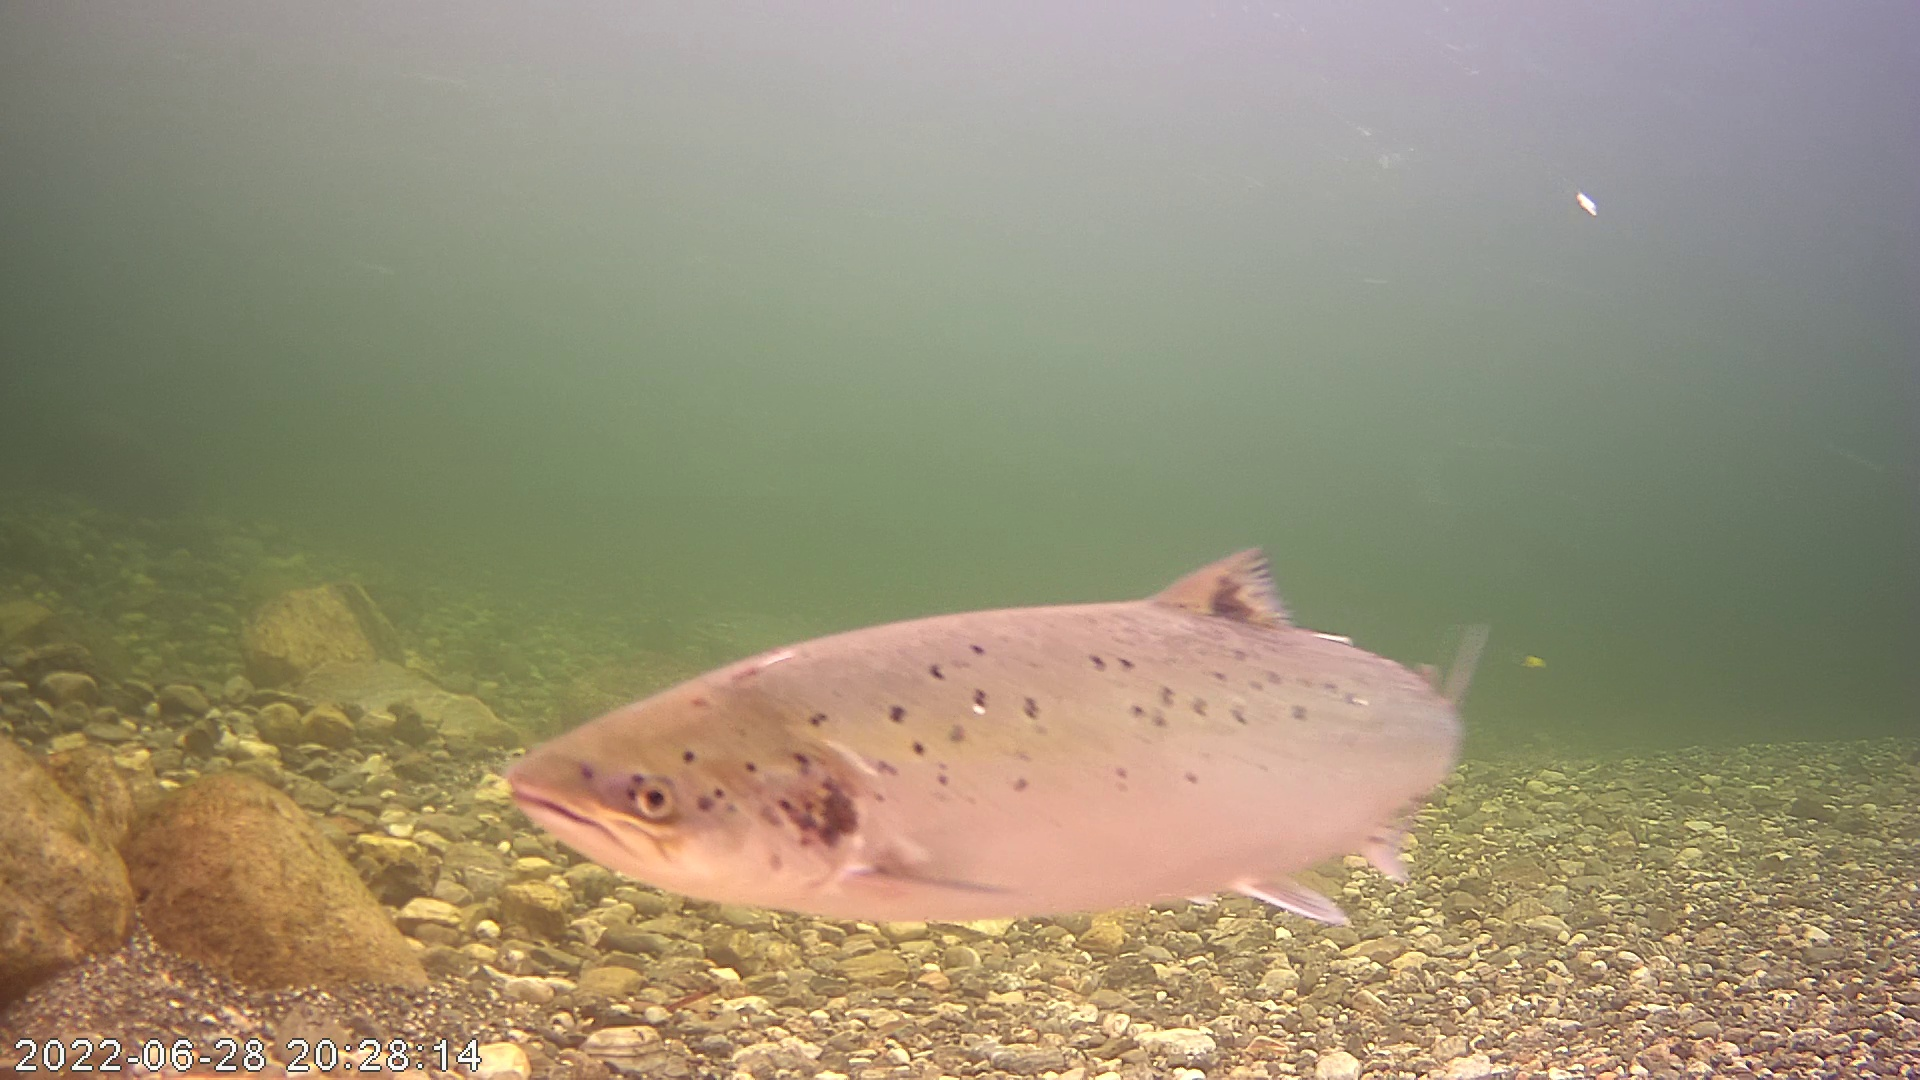salmon: (497, 498, 1497, 935)
